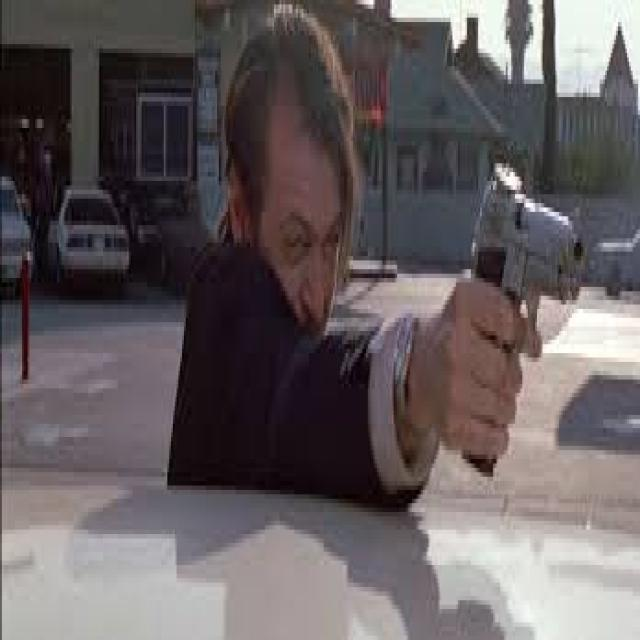weapons: (437, 128, 603, 492)
